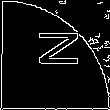N_W: (29, 34, 81, 76)
